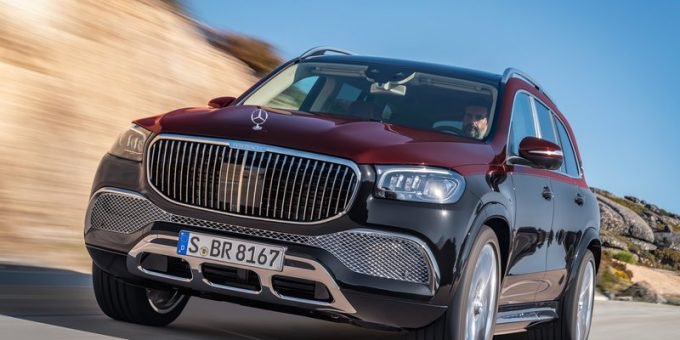car: (84, 46, 596, 338)
